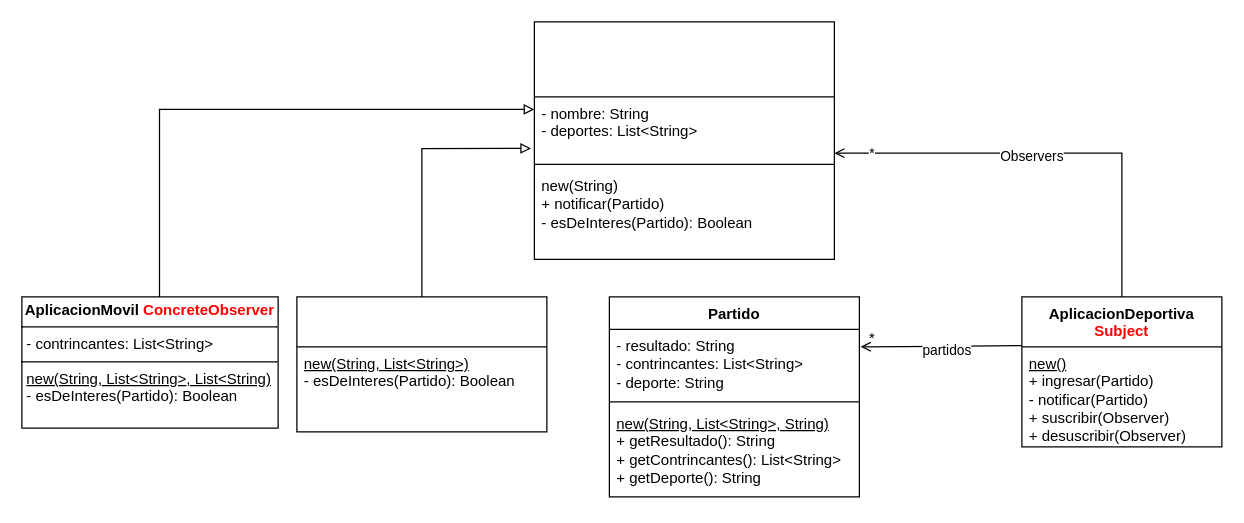
Image size: 1244x523. Some labels were removed from this diagram. The box of each missing label's shape, as (x1, y1, x2, y2) in pixels:
<<Abstract>> Observer: (533, 21, 834, 259)
Servidor ConcreteObserver: (296, 296, 547, 432)
